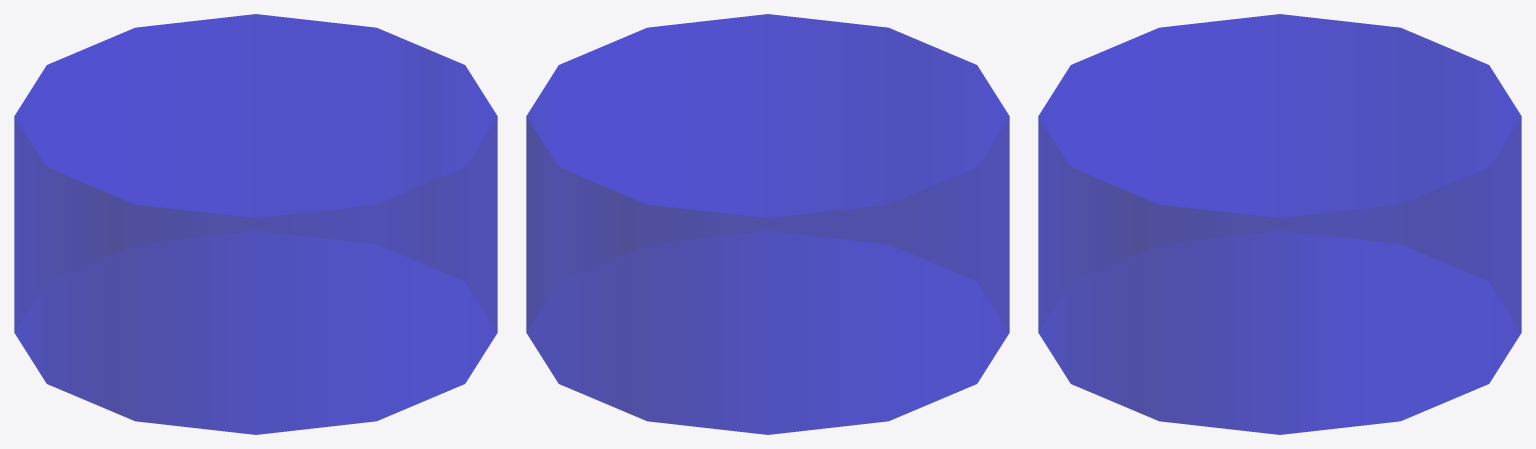
The model's file is solution_of_copper.fbx.
The picture shows the model from 3 angles, left to right: view 1: azimuth 30°, elevation 25°; view 2: azimuth 150°, elevation 25°; view 3: azimuth 270°, elevation 25°; orthographic projection.
Visible parts, largest first — view 1: solution_of_copper2; view 2: solution_of_copper2; view 3: solution_of_copper2.
Part boxes in pixels (box(x1,y1,x2,y2)): solution_of_copper2: box(14, 14, 497, 434); solution_of_copper2: box(526, 14, 1009, 434); solution_of_copper2: box(1038, 14, 1521, 434).
Size of the model in its own units: 16.58 by 8.21 by 16.58.
